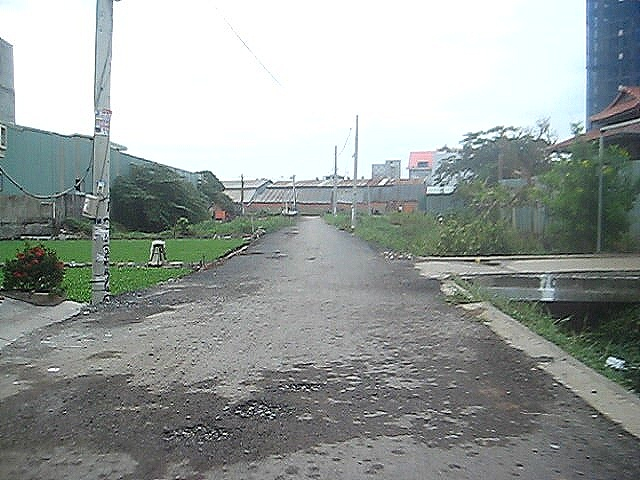hole: (161, 423, 233, 447), (224, 397, 293, 418), (272, 380, 327, 392)
